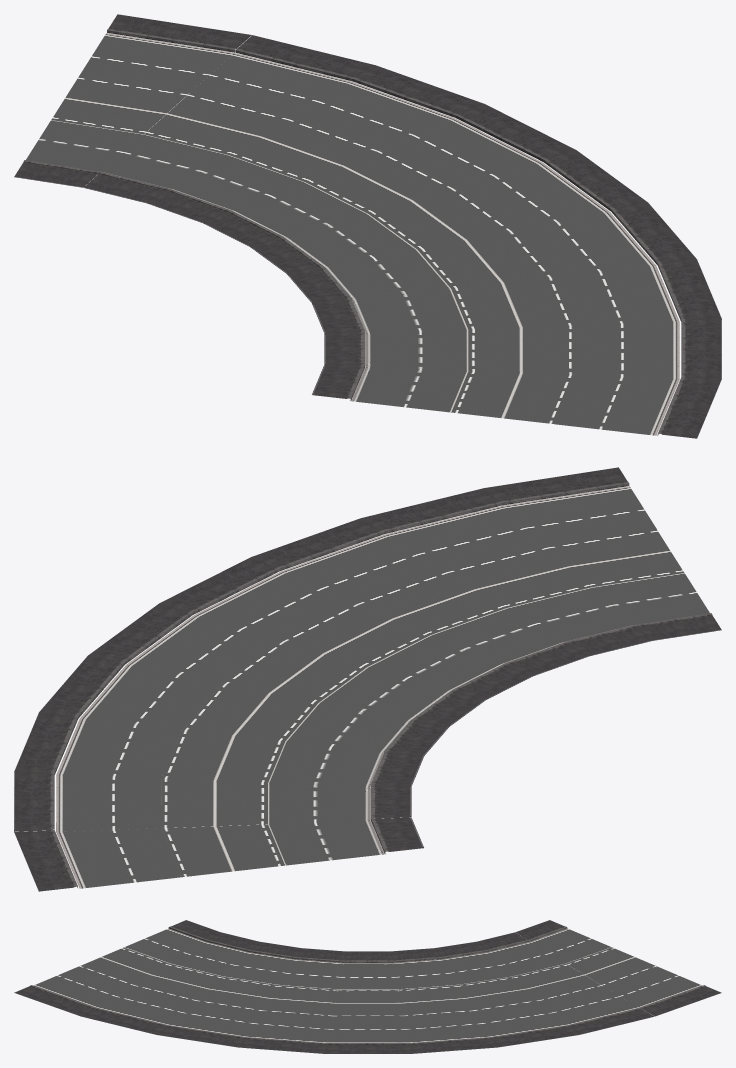
The model's file is 6 lines corner.FBX.
3 renders of one model, top to bottom at view 1: azimuth 30°, elevation 25°; view 2: azimuth 150°, elevation 25°; view 3: azimuth 270°, elevation 25°, orthographic. The views are drawn at different scales.
Parts seen in each view (by area): view 1: Object122; view 2: Object122; view 3: Object122.
Part boxes in pixels (x1,y1,x2,y2): Object122: (14,14,721,438); Object122: (14,467,721,891); Object122: (14,920,721,1053).
Bounding box in the file's own units: 57.37 × 0.3185 × 128.
